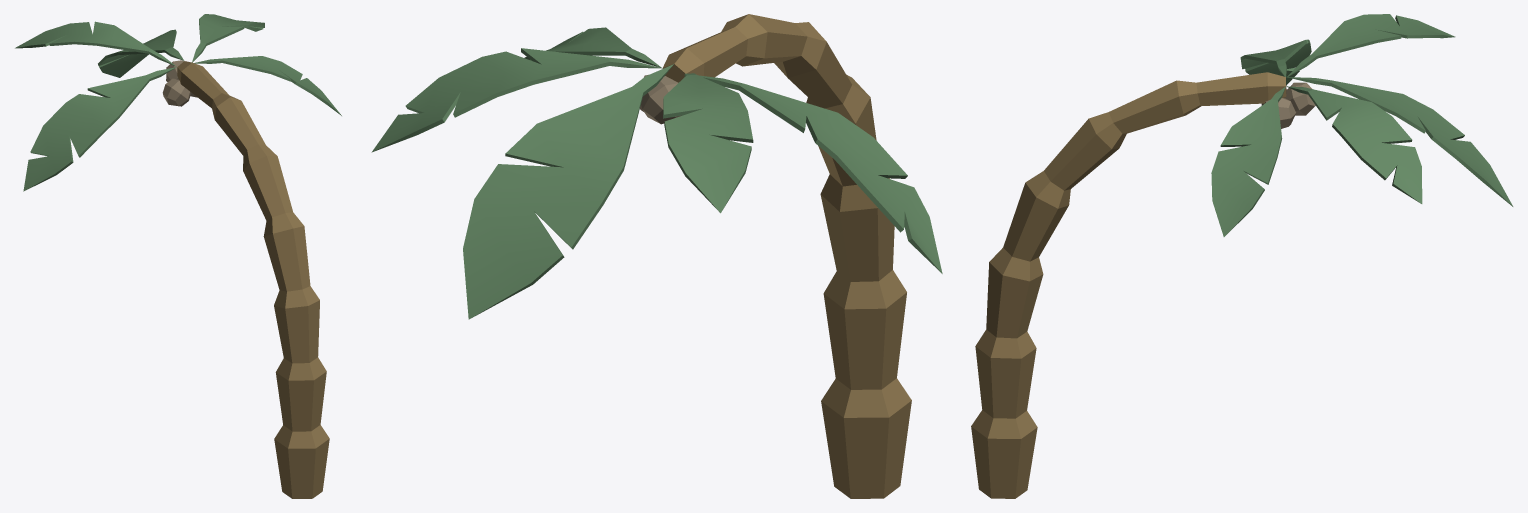
Rendered from palmtree.fbx.
The picture shows the model from 3 angles, left to right: view 1: azimuth 30°, elevation 25°; view 2: azimuth 150°, elevation 25°; view 3: azimuth 270°, elevation 25°; orthographic projection. The views are drawn at different scales.
Parts seen in each view (by area): view 1: pCylinder9; view 2: pCylinder9; view 3: pCylinder9.
Boxes of the visible parts, bbox=[...] form: pCylinder9: bbox=[15, 14, 341, 498]; pCylinder9: bbox=[371, 14, 942, 498]; pCylinder9: bbox=[971, 14, 1513, 498].
Size of the model in its own units: 7.63 by 8.9 by 10.14.
